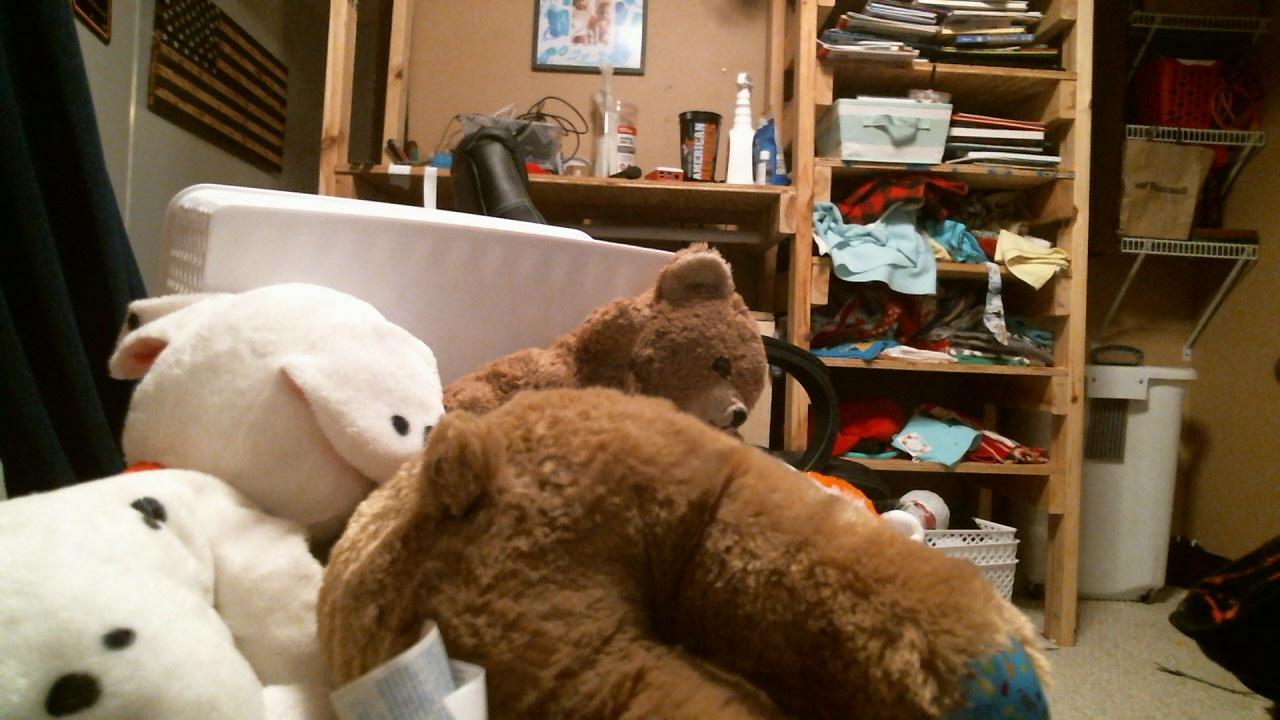Little_Mister_Bear: (698, 353, 766, 440)
